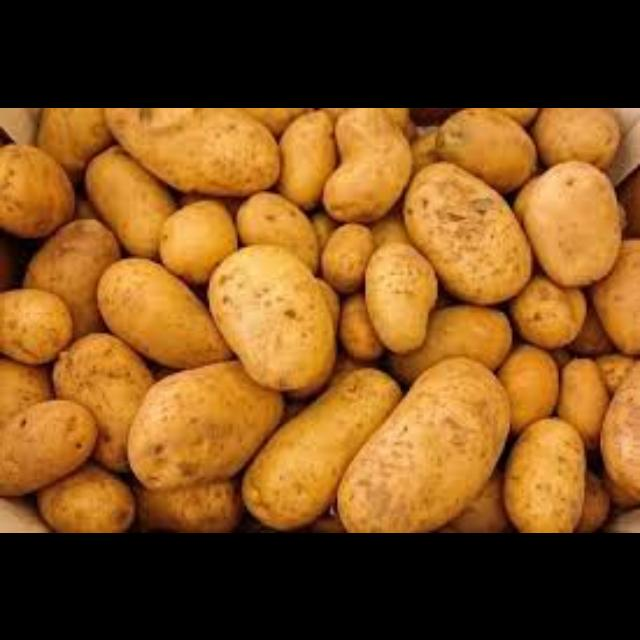Potato: (346, 350, 509, 530), (233, 353, 394, 527), (126, 361, 290, 494), (210, 243, 342, 395), (400, 160, 530, 304), (43, 322, 165, 468), (102, 108, 284, 198), (81, 264, 222, 372), (518, 157, 626, 287), (366, 294, 512, 374), (80, 136, 174, 250), (0, 404, 114, 491), (22, 213, 110, 325), (504, 408, 578, 532), (326, 107, 406, 219), (518, 108, 640, 172), (496, 260, 586, 346), (437, 107, 535, 185), (366, 244, 439, 344), (230, 178, 310, 268), (0, 140, 78, 232), (136, 458, 238, 526), (34, 458, 124, 532), (598, 350, 640, 506), (270, 111, 340, 199), (0, 286, 76, 362), (148, 198, 230, 268), (0, 342, 56, 444), (497, 337, 557, 425), (590, 235, 640, 338), (559, 344, 603, 441), (34, 108, 108, 158), (316, 216, 368, 284)
